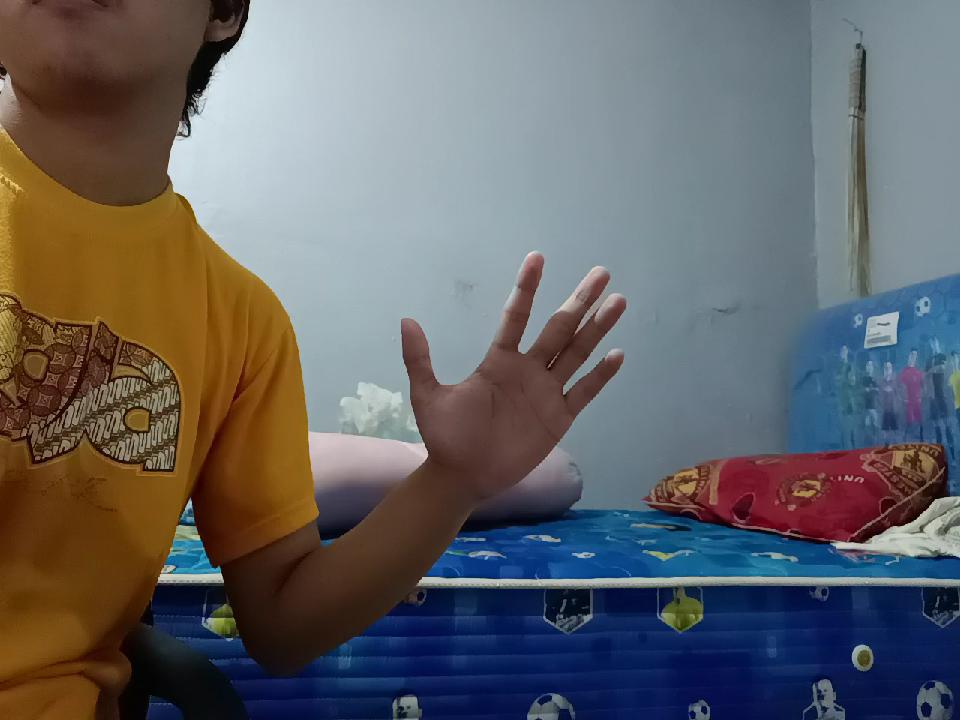paper: (378, 250, 637, 481)
